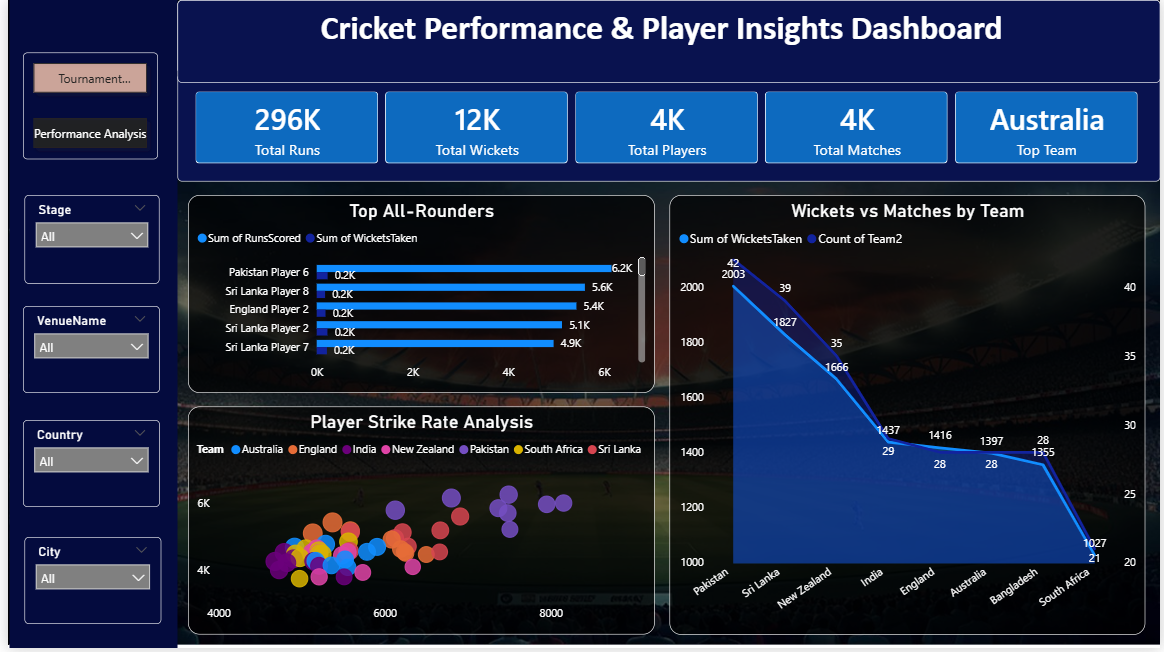

Layout of this report page (visuals, bound fields, positions):
{"tool":"powerbi","page":{"name":"Performance Analysis","canvas":[1280,720],"ordinal":1},"visuals":[{"type":"textbox","box":[1.7,0,186.7,720],"z":0},{"type":"slicer","fields":{"Values":["DimMatch.Stage"]},"box":[18.3,216.7,150,98.3],"z":1000},{"type":"slicer","fields":{"Values":["DimVenue.VenueName"]},"box":[16.7,340,151.7,96.7],"z":2000},{"type":"slicer","fields":{"Values":["DimVenue.Country"]},"box":[16.7,466.7,151.7,96.7],"z":3000},{"type":"slicer","fields":{"Values":["DimVenue.City"]},"box":[18.3,596.7,151.7,96.7],"z":4000},{"type":"pageNavigator","box":[16.7,58.3,150,118.3],"z":5000},{"type":"cardVisual","fields":{"Data":["Sum(FactPlayerMatch.RunsScored)","Sum(FactPlayerMatch.WicketsTaken)","CountNonNull(FactPlayerMatch.PlayerID)","CountNonNull(FactPlayerMatch.MatchID)","Min(DimPlayer.Team)"]},"box":[188.3,81.7,1091.7,120],"z":7000},{"type":"areaChart","title":"Wickets vs Matches by Team","fields":{"Category":["DimMatch.Team1"],"Y":["Sum(FactPlayerMatch.WicketsTaken)"],"Y2":["CountNonNull(DimMatch.Team2)"]},"box":[735,216.7,528.3,488.3],"z":8000},{"type":"clusteredBarChart","title":"Top All-Rounders","fields":{"Category":["DimPlayer.PlayerName"],"Y":["Sum(FactPlayerMatch.RunsScored)","Sum(FactPlayerMatch.WicketsTaken)"]},"box":[200,216.7,518.3,220],"z":9000},{"type":"scatterChart","title":"Player Strike Rate Analysis","fields":{"X":["Sum(FactPlayerMatch.BallsFaced)"],"Y":["Sum(FactPlayerMatch.RunsScored)"],"Size":["FactPlayerMatch.Strike Rate"],"Series":["DimPlayer.Team"],"Category":["DimPlayer.PlayerName"]},"box":[200,451.7,518.3,253.3],"z":9001},{"type":"textbox","box":[188.3,0,1091.7,81.7],"z":9002},{"type":"textbox","box":[188.3,0,1091.7,91.7],"z":9003}]}

Visuals, with their boxes in screenshot pixels (x1, y1, x2, y2), scaled from the page's 1280x720 canvas onto the 1164x652 screenshot:
textbox: [x1=2, y1=0, x2=171, y2=651]
slicer - DimMatch.Stage: [x1=17, y1=196, x2=153, y2=285]
slicer - DimVenue.VenueName: [x1=15, y1=308, x2=153, y2=395]
slicer - DimVenue.Country: [x1=15, y1=423, x2=153, y2=510]
slicer - DimVenue.City: [x1=17, y1=540, x2=155, y2=628]
pageNavigator: [x1=15, y1=53, x2=152, y2=160]
cardVisual - Sum(FactPlayerMatch.RunsScored) x Sum(FactPlayerMatch.WicketsTaken): [x1=171, y1=74, x2=1163, y2=183]
"Wickets vs Matches by Team" areaChart: [x1=668, y1=196, x2=1149, y2=638]
"Top All-Rounders" clusteredBarChart: [x1=182, y1=196, x2=653, y2=395]
"Player Strike Rate Analysis" scatterChart: [x1=182, y1=409, x2=653, y2=638]
textbox: [x1=171, y1=0, x2=1163, y2=74]
textbox: [x1=171, y1=0, x2=1163, y2=83]
